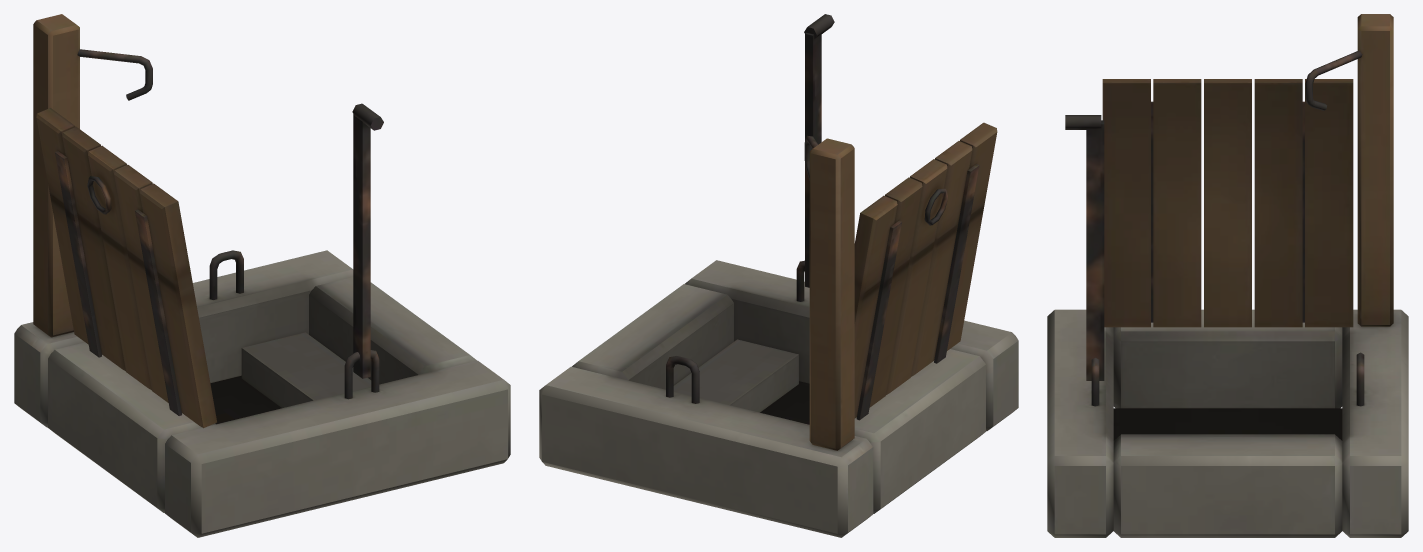
Rendered from hatch.open.glb.
The picture shows the model from 3 angles, left to right: view 1: azimuth 30°, elevation 25°; view 2: azimuth 150°, elevation 25°; view 3: azimuth 270°, elevation 25°; orthographic projection. The views are drawn at different scales.
Parts seen in each view (by area): view 1: hatch.open; view 2: hatch.open; view 3: hatch.open.
Part boxes in pixels (x1,y1,x2,y2): hatch.open: (14, 14, 510, 537); hatch.open: (539, 14, 1018, 537); hatch.open: (1047, 14, 1408, 537).
Size of the model in its own units: 1.23 by 1.4 by 1.2.
Materials: 1 (1 with a texture image).
